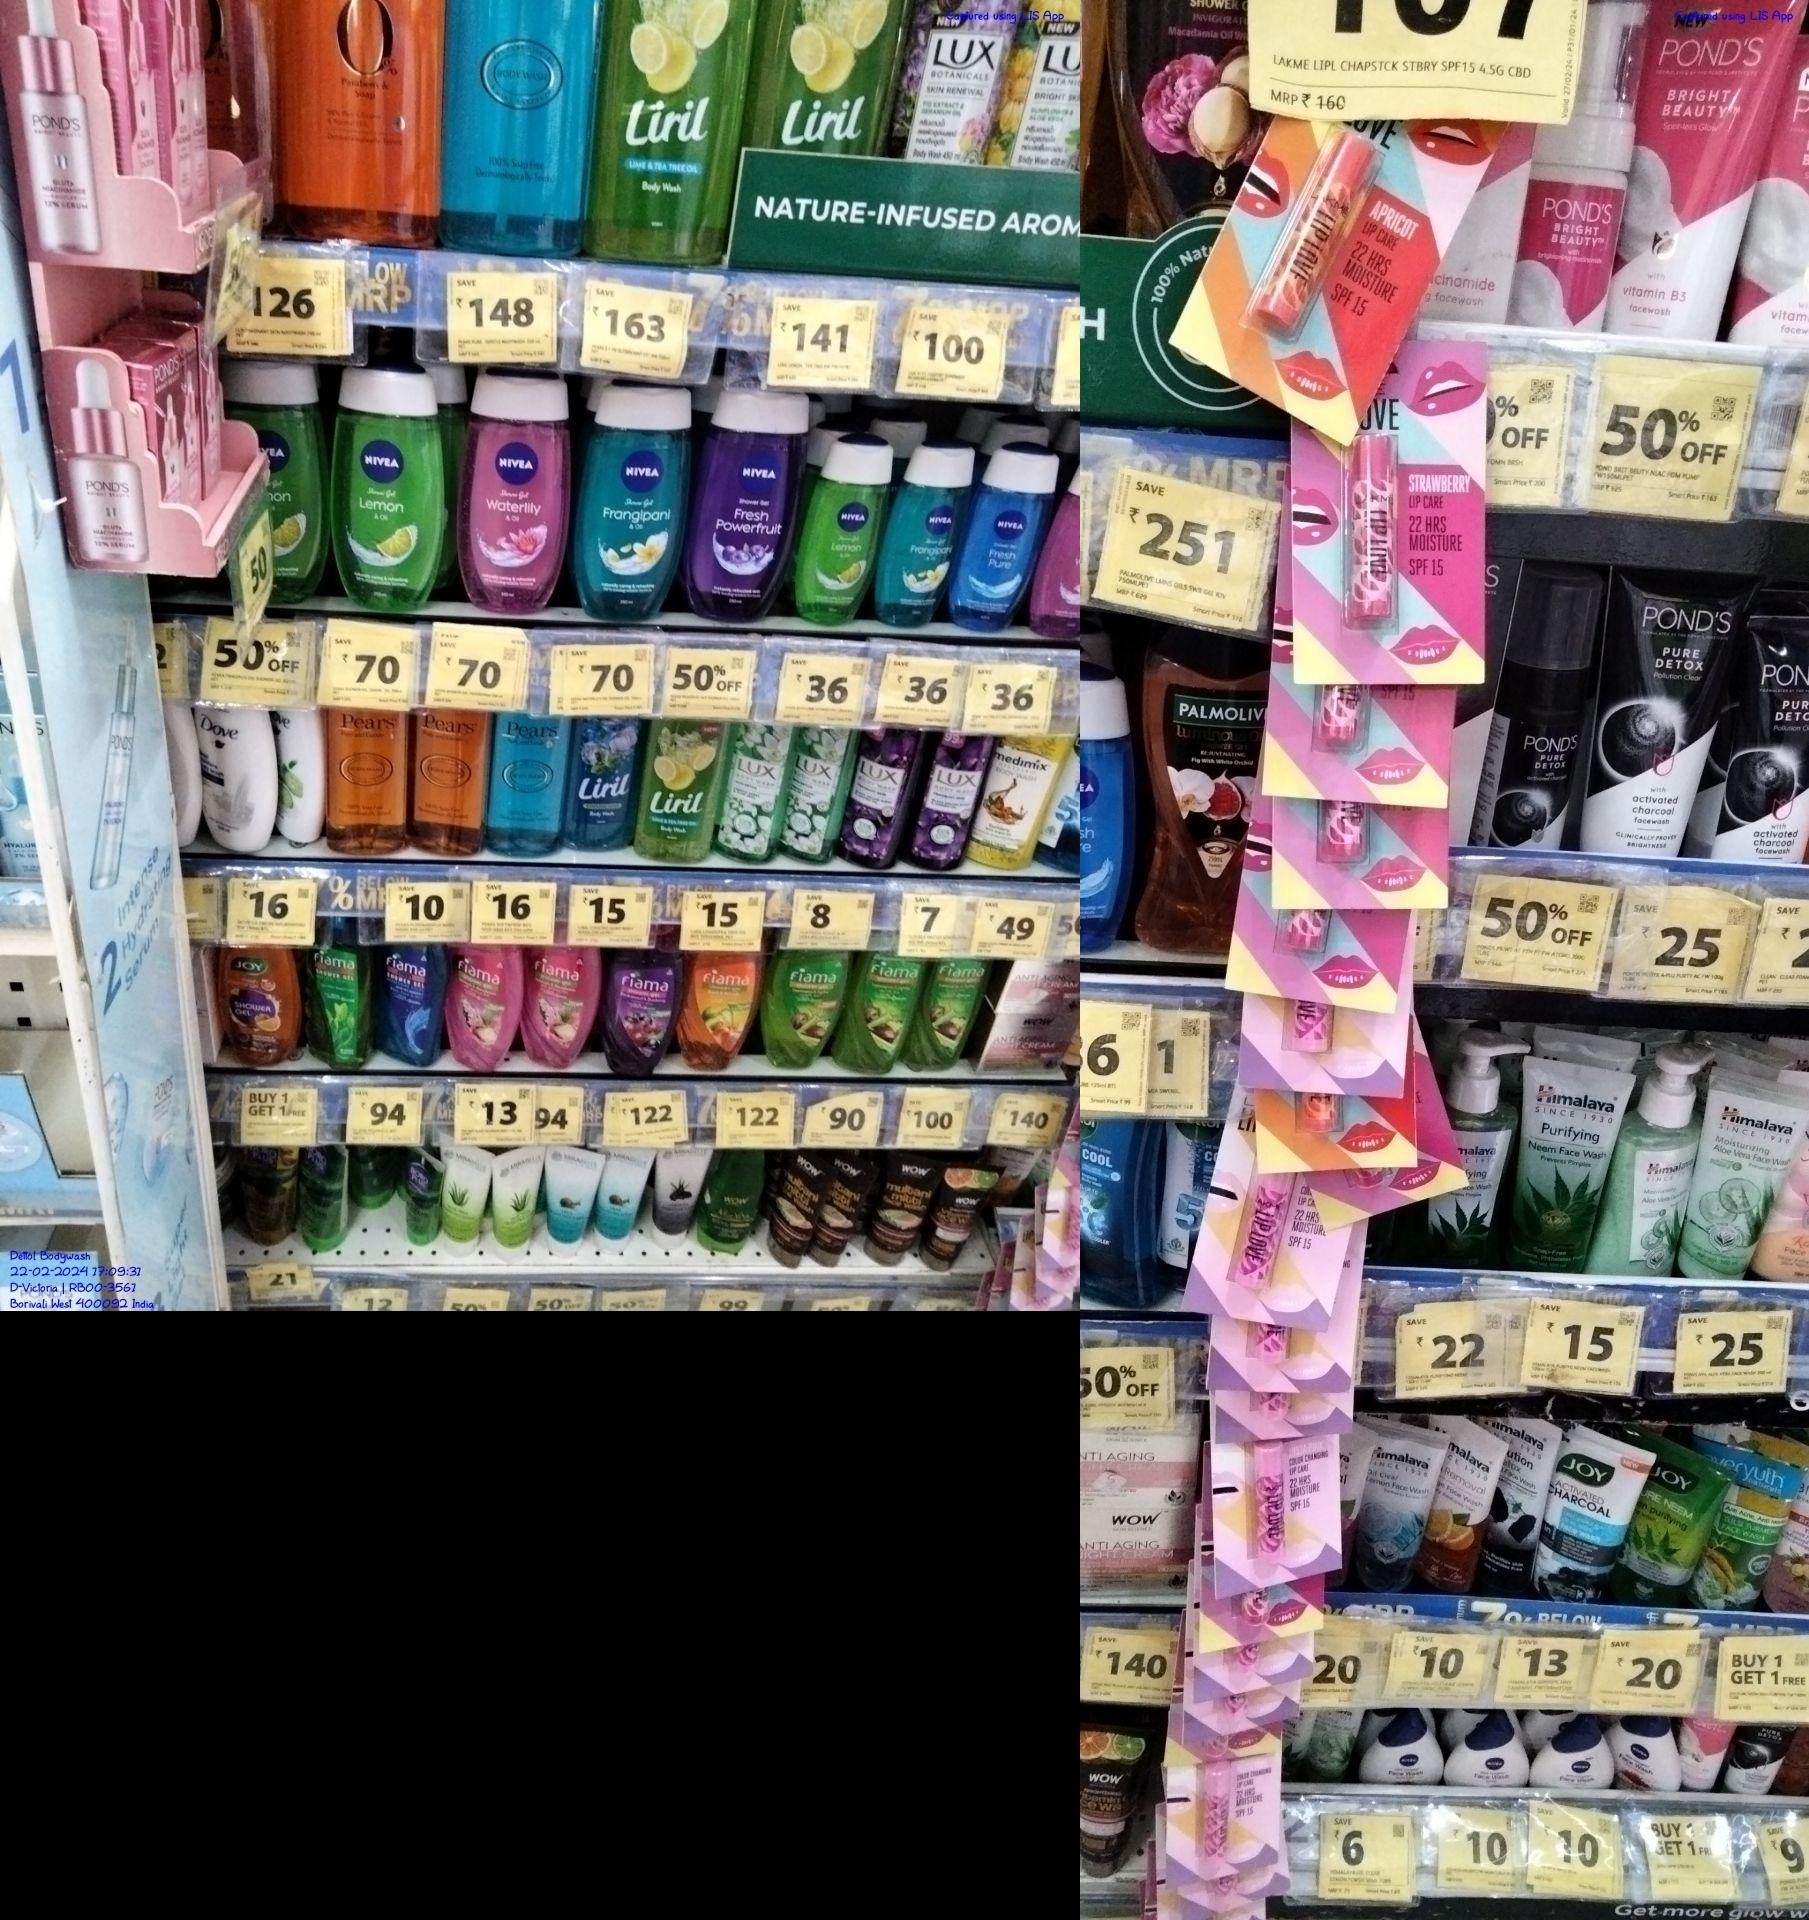Fiama_Shower_Gel_Lemongrass_and_Jojoba_250ML: (767, 940, 833, 1068), (855, 954, 908, 1076)
Fiama_Shower_Gel_Patchouli_and_Macadamia_250ML: (524, 954, 595, 1068), (449, 951, 513, 1073)
Fiama_Shower_Gel_Peach_and_Avocado_250ML: (683, 949, 746, 1068)
Joy_Shower_Gel_Mandarin_and_Lemongrass_250ML: (221, 942, 296, 1070)
Lux_Black_Orchid_Scent_and_Juniper_Oil_Body_Wash_245ML: (925, 724, 973, 869), (855, 724, 899, 872)
Lux_Body_Wash_Skin_Detox_Freesia_Scent_and_Alove_Vera_245ML: (726, 718, 779, 862), (797, 718, 840, 867)
Nivea_Shower_Gel_Frangipani_and_Oil_250ML: (581, 386, 680, 622)
Nivea_Shower_Gel_Fresh_Powerfruit_250ML: (697, 388, 787, 626)
Nivea_Shower_Gel_Lemon_and_Oil_250ML: (326, 371, 439, 616)
Nivea_Shower_Gel_Waterlily_and_Oil_250ML: (461, 372, 571, 616)
